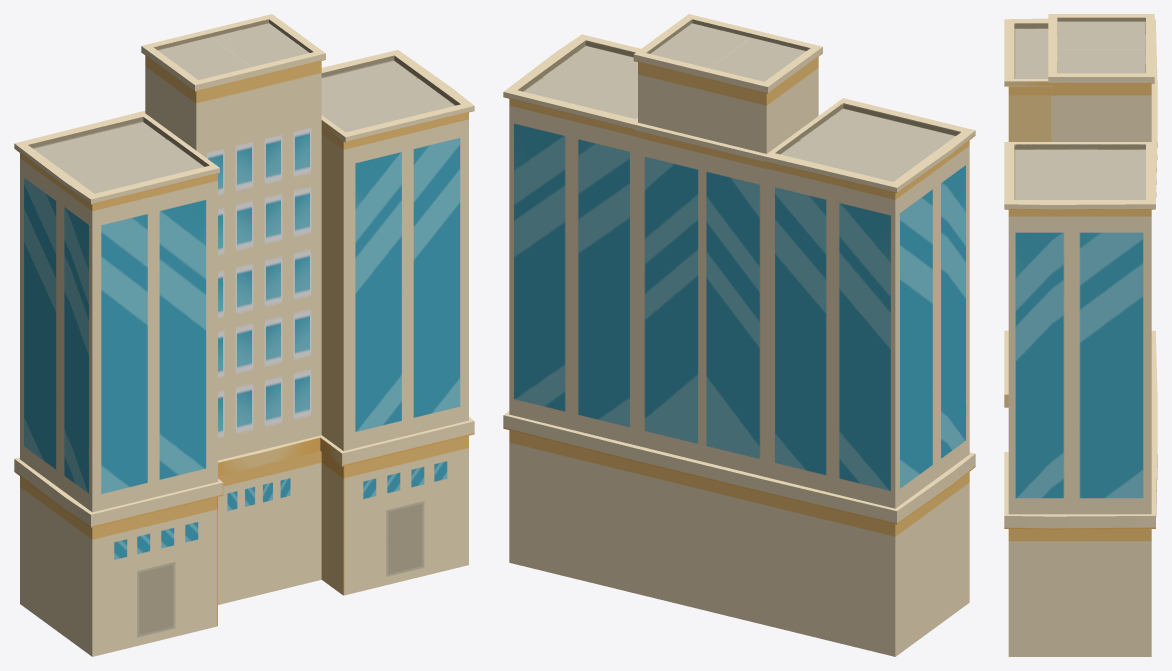
Rendered from building2.FBX.
The picture shows the model from 3 angles, left to right: view 1: azimuth 30°, elevation 25°; view 2: azimuth 150°, elevation 25°; view 3: azimuth 270°, elevation 25°; orthographic projection. The views are drawn at different scales.
Parts seen in each view (by area): view 1: Box001; view 2: Box001; view 3: Box001.
Part boxes in pixels (x1,y1,x2,y2): Box001: [14, 14, 474, 656]; Box001: [503, 14, 975, 656]; Box001: [1004, 14, 1157, 656].
Bounding box in the file's own units: 308 × 401 × 107.
